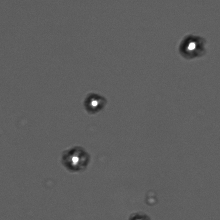Living Cell: (62, 145, 90, 173), (177, 34, 206, 59), (82, 92, 107, 115)
